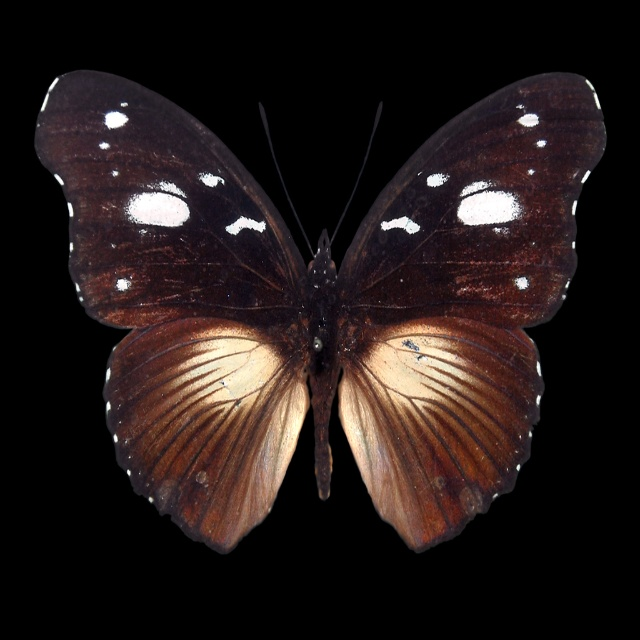Butterfly: (34, 71, 609, 556)
